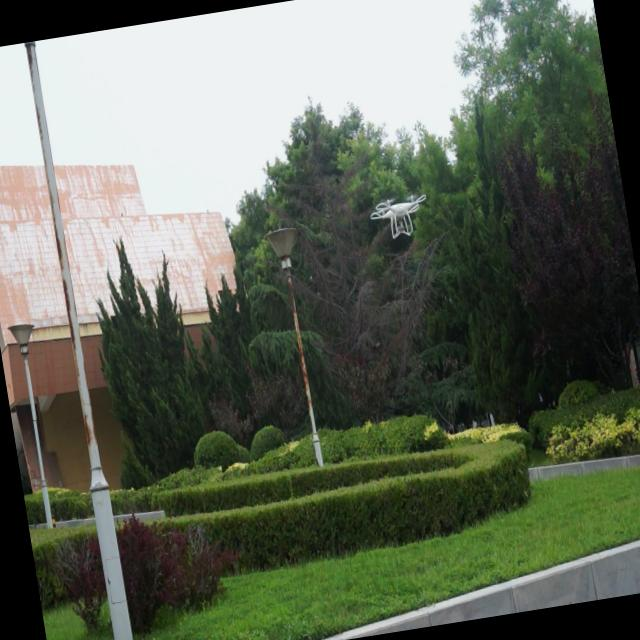drone: (368, 192, 433, 245)
